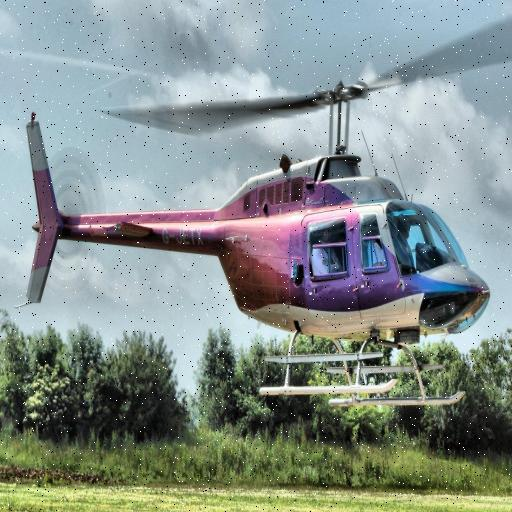helicopter: (20, 77, 507, 414)
